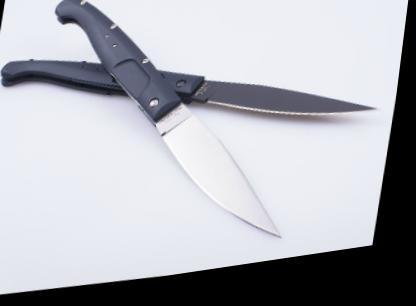knife: (136, 87, 315, 268), (181, 61, 392, 148)
